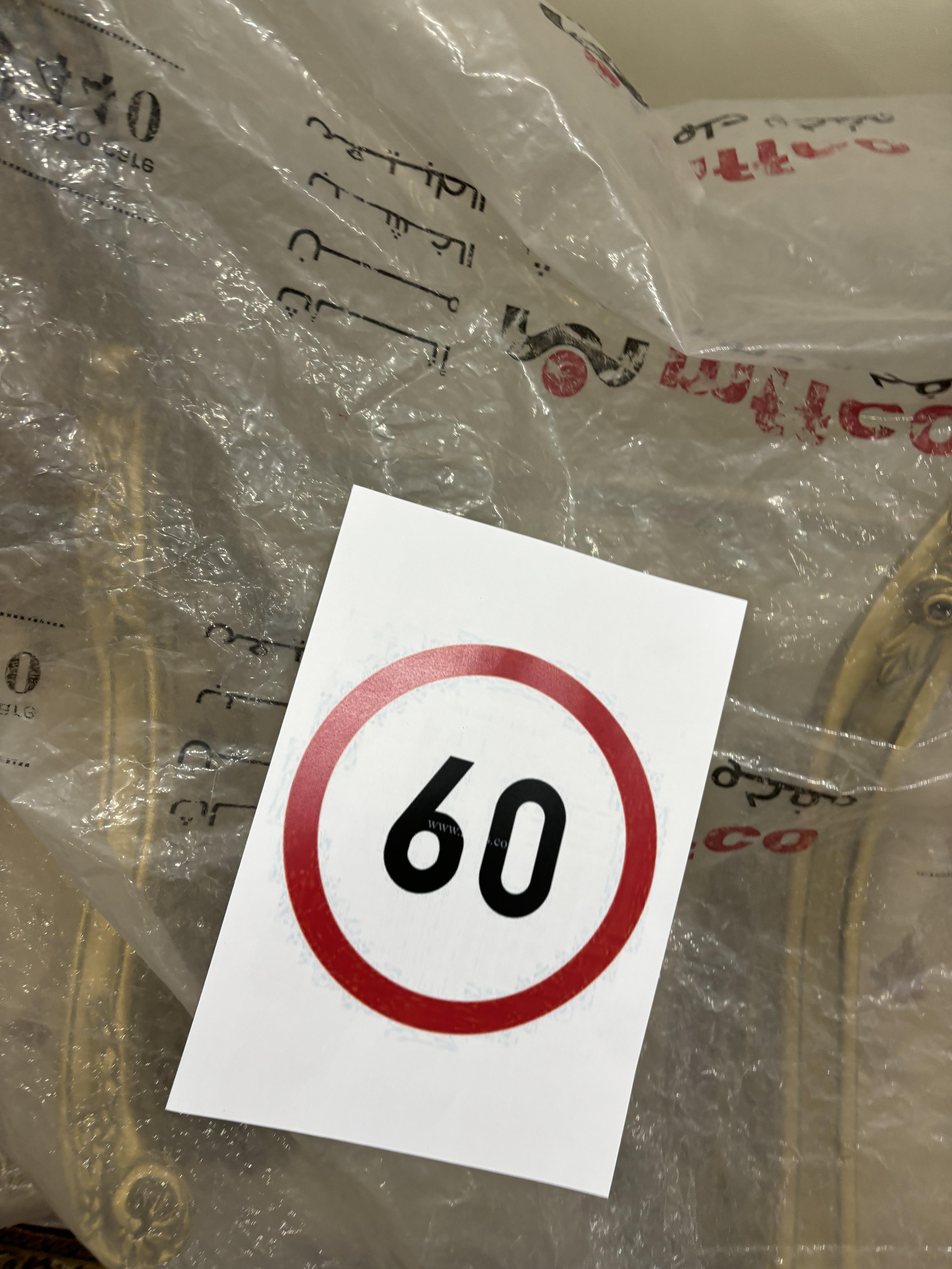60-Speed: (296, 642, 664, 1041)
